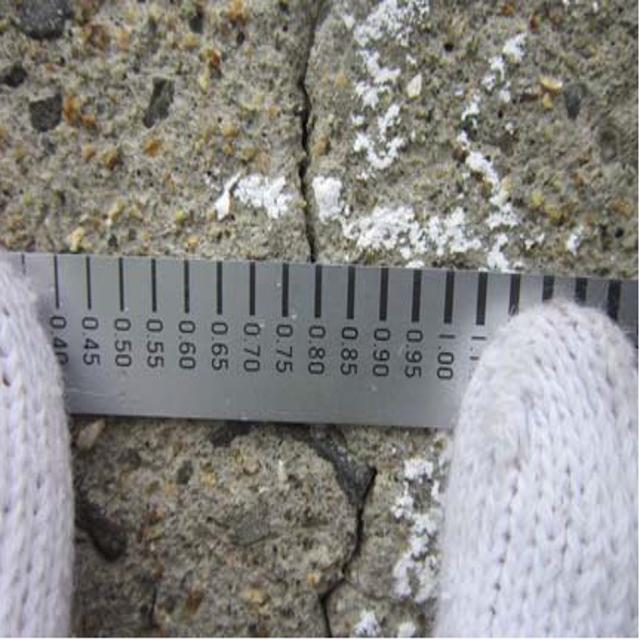crack: (272, 4, 347, 269), (293, 426, 386, 633)
